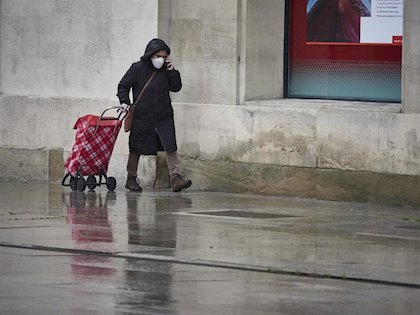with_mask: (144, 43, 173, 72)
